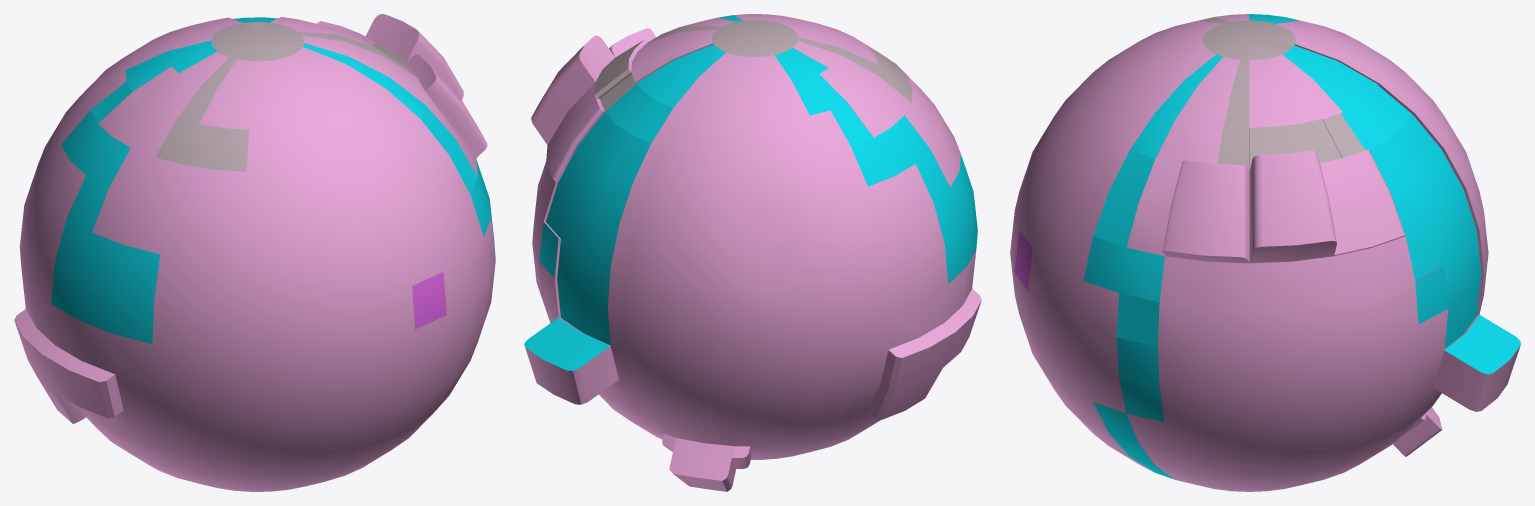
Rendered from planeetta_adjusted_pastel.fbx.
3 renders of one model, left to right at view 1: azimuth 30°, elevation 25°; view 2: azimuth 150°, elevation 25°; view 3: azimuth 270°, elevation 25°, orthographic. The views are drawn at different scales.
Visible parts, largest first — view 1: planeetta main; view 2: planeetta main; view 3: planeetta main.
Part boxes in pixels (left/top/right/bottom): planeetta main: left=14, top=14, right=495, bottom=491; planeetta main: left=524, top=14, right=981, bottom=491; planeetta main: left=1010, top=14, right=1520, bottom=491.
Size of the model in its own units: 10287 by 10032 by 10674.
